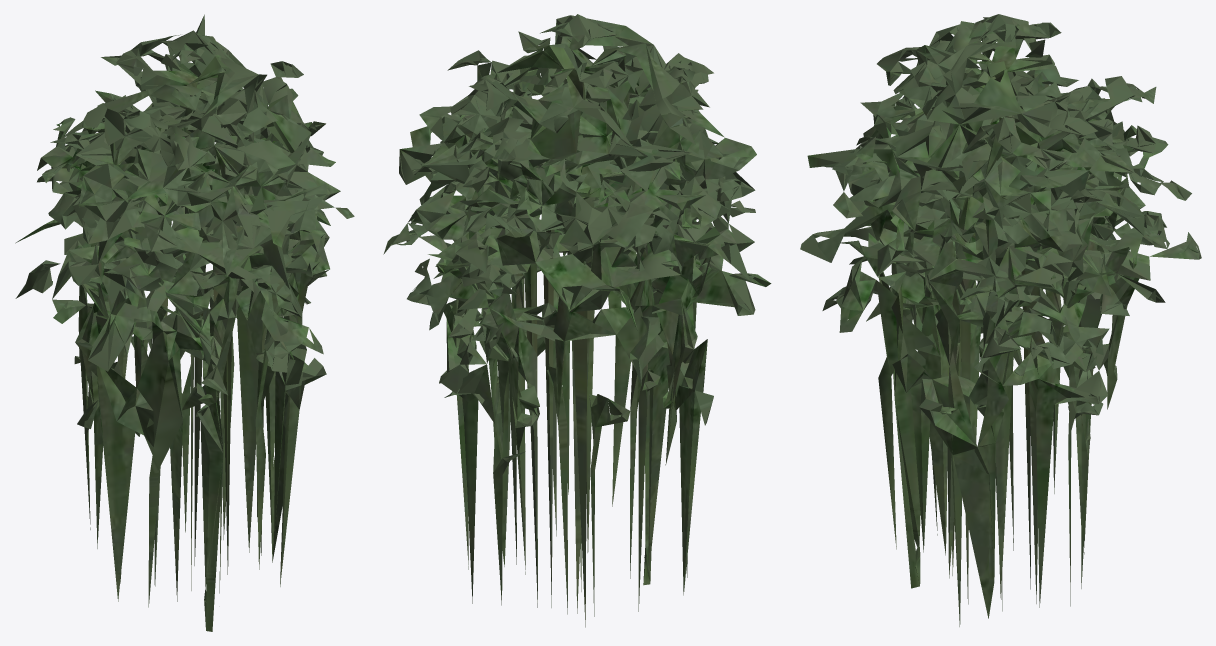
Rendered from bamboo.glb.
The picture shows the model from 3 angles, left to right: view 1: azimuth 30°, elevation 25°; view 2: azimuth 150°, elevation 25°; view 3: azimuth 270°, elevation 25°; orthographic projection. The views are drawn at different scales.
Parts seen in each view (by area): view 1: bamboo; view 2: bamboo; view 3: bamboo.
Part boxes in pixels (box(x1,y1,x2,y2)): bamboo: box(15, 14, 354, 631); bamboo: box(383, 14, 771, 627); bamboo: box(800, 14, 1201, 626).
Size of the model in its own units: 3.22 by 5.5 by 3.39.
Materials: 1 (1 with a texture image).
